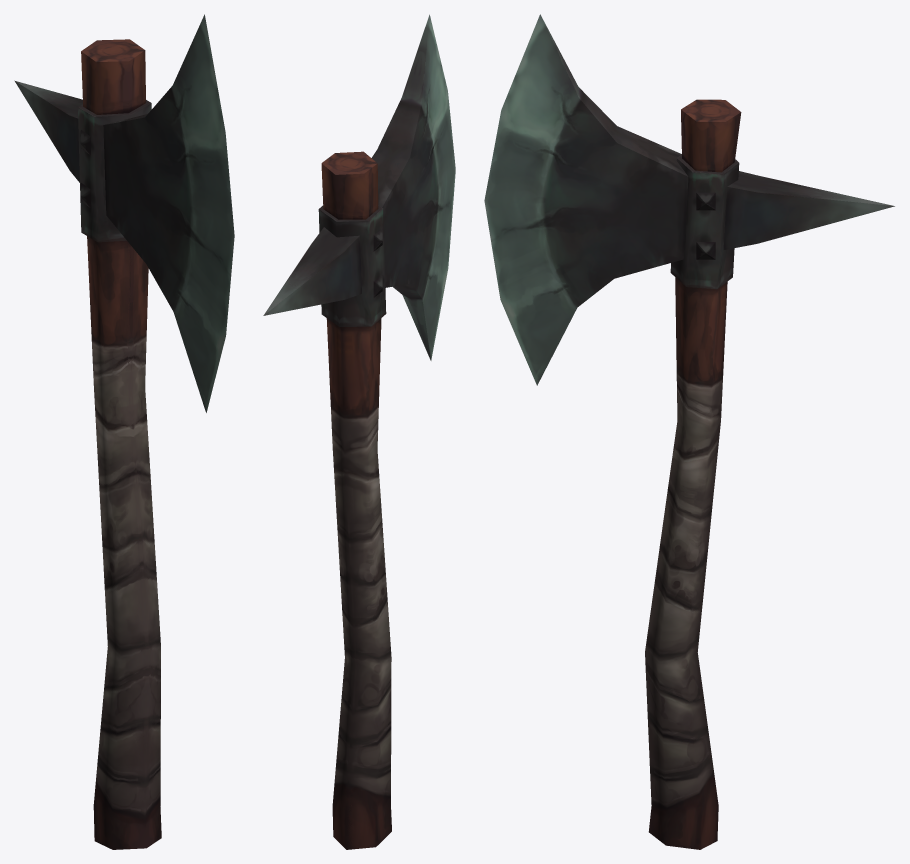
The model's file is Axe01_mesh.FBX.
3 views of the same model, side by side, from view 1: azimuth 30°, elevation 25°; view 2: azimuth 150°, elevation 25°; view 3: azimuth 270°, elevation 25° (orthographic). The views are drawn at different scales.
Parts seen in each view (by area): view 1: Axe01_mesh; view 2: Axe01_mesh; view 3: Axe01_mesh.
Boxes of the visible parts, x1,y1,x2,y2 form: Axe01_mesh: (14,14,234,849); Axe01_mesh: (263,14,455,849); Axe01_mesh: (484,14,894,849).
Size of the model in its own units: 3.07 by 36.85 by 16.6.
